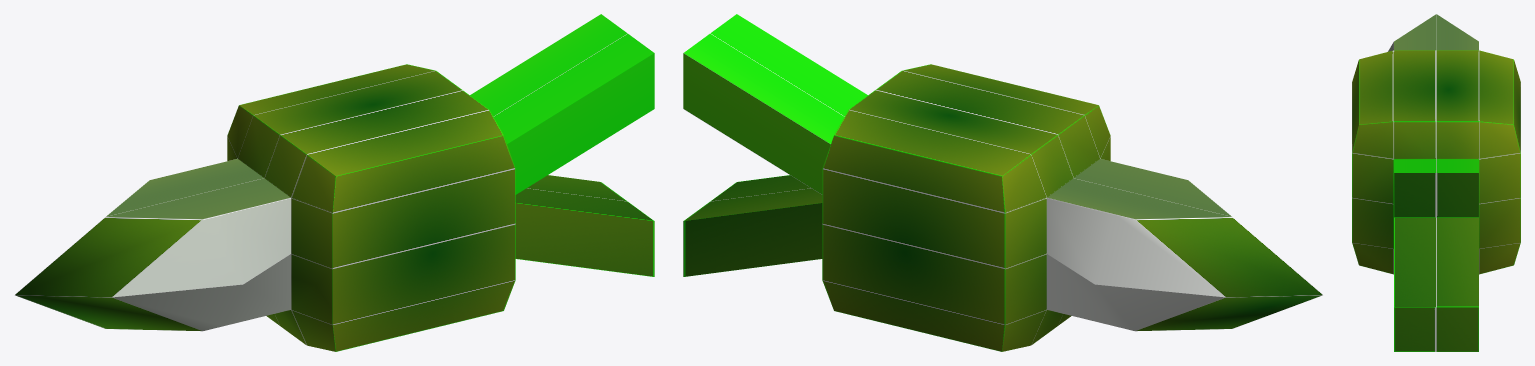
Rendered from Ammo Refill.FBX.
3 renders of one model, left to right at view 1: azimuth 30°, elevation 25°; view 2: azimuth 150°, elevation 25°; view 3: azimuth 270°, elevation 25°, orthographic. The views are drawn at different scales.
Visible parts, largest first — view 1: pCube1; view 2: pCube1; view 3: pCube1.
Boxes of the visible parts, bbox=[...] form: pCube1: bbox=[15, 14, 654, 351]; pCube1: bbox=[683, 14, 1322, 351]; pCube1: bbox=[1352, 14, 1520, 351].
Size of what is drawn, in the model's own units: 2.87 by 1 by 0.8536.
1 material, 1 textured.
